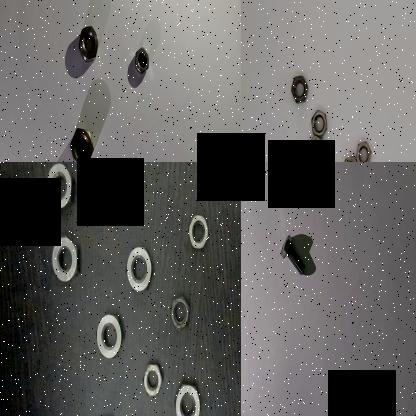Bolts: (280, 231, 308, 278)
NUTS: (52, 227, 85, 288), (44, 162, 81, 214), (94, 304, 126, 362), (124, 238, 152, 302), (171, 376, 207, 416), (169, 288, 195, 339), (187, 210, 215, 252), (68, 124, 96, 162), (144, 356, 166, 402), (76, 23, 100, 64), (288, 72, 310, 108), (310, 106, 330, 140), (305, 132, 325, 162), (134, 44, 152, 76), (355, 139, 373, 162), (341, 153, 360, 162)
